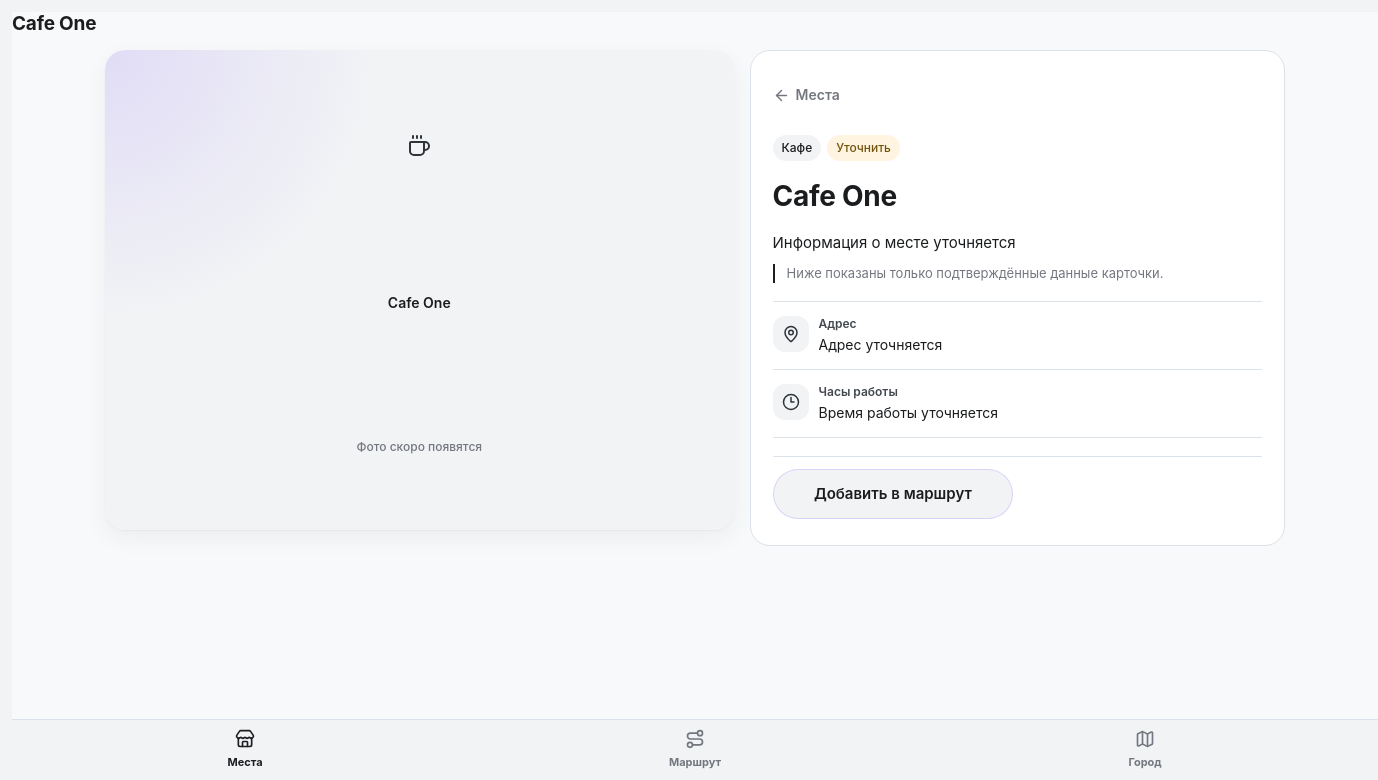
Test: TmaPlaceDetailPage › shows a generic message for a non-start-related failure_new
The width and height of the screenshot is (1378, 780).
Click the button "Добавить в маршрут" at (893, 494), box [772,469,1013,519]
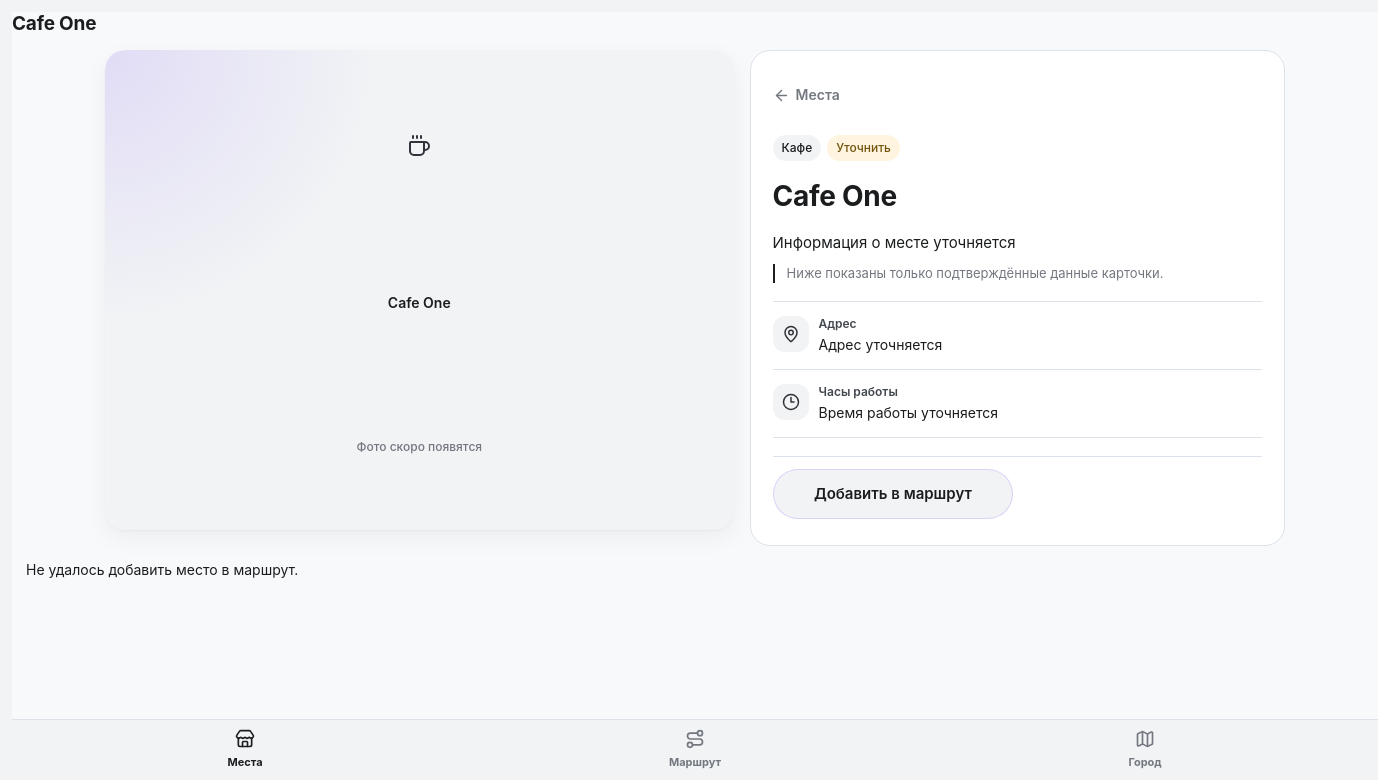
Result: the message reads "Не удалось добавить место в маршрут." at [26,561,298,578]
